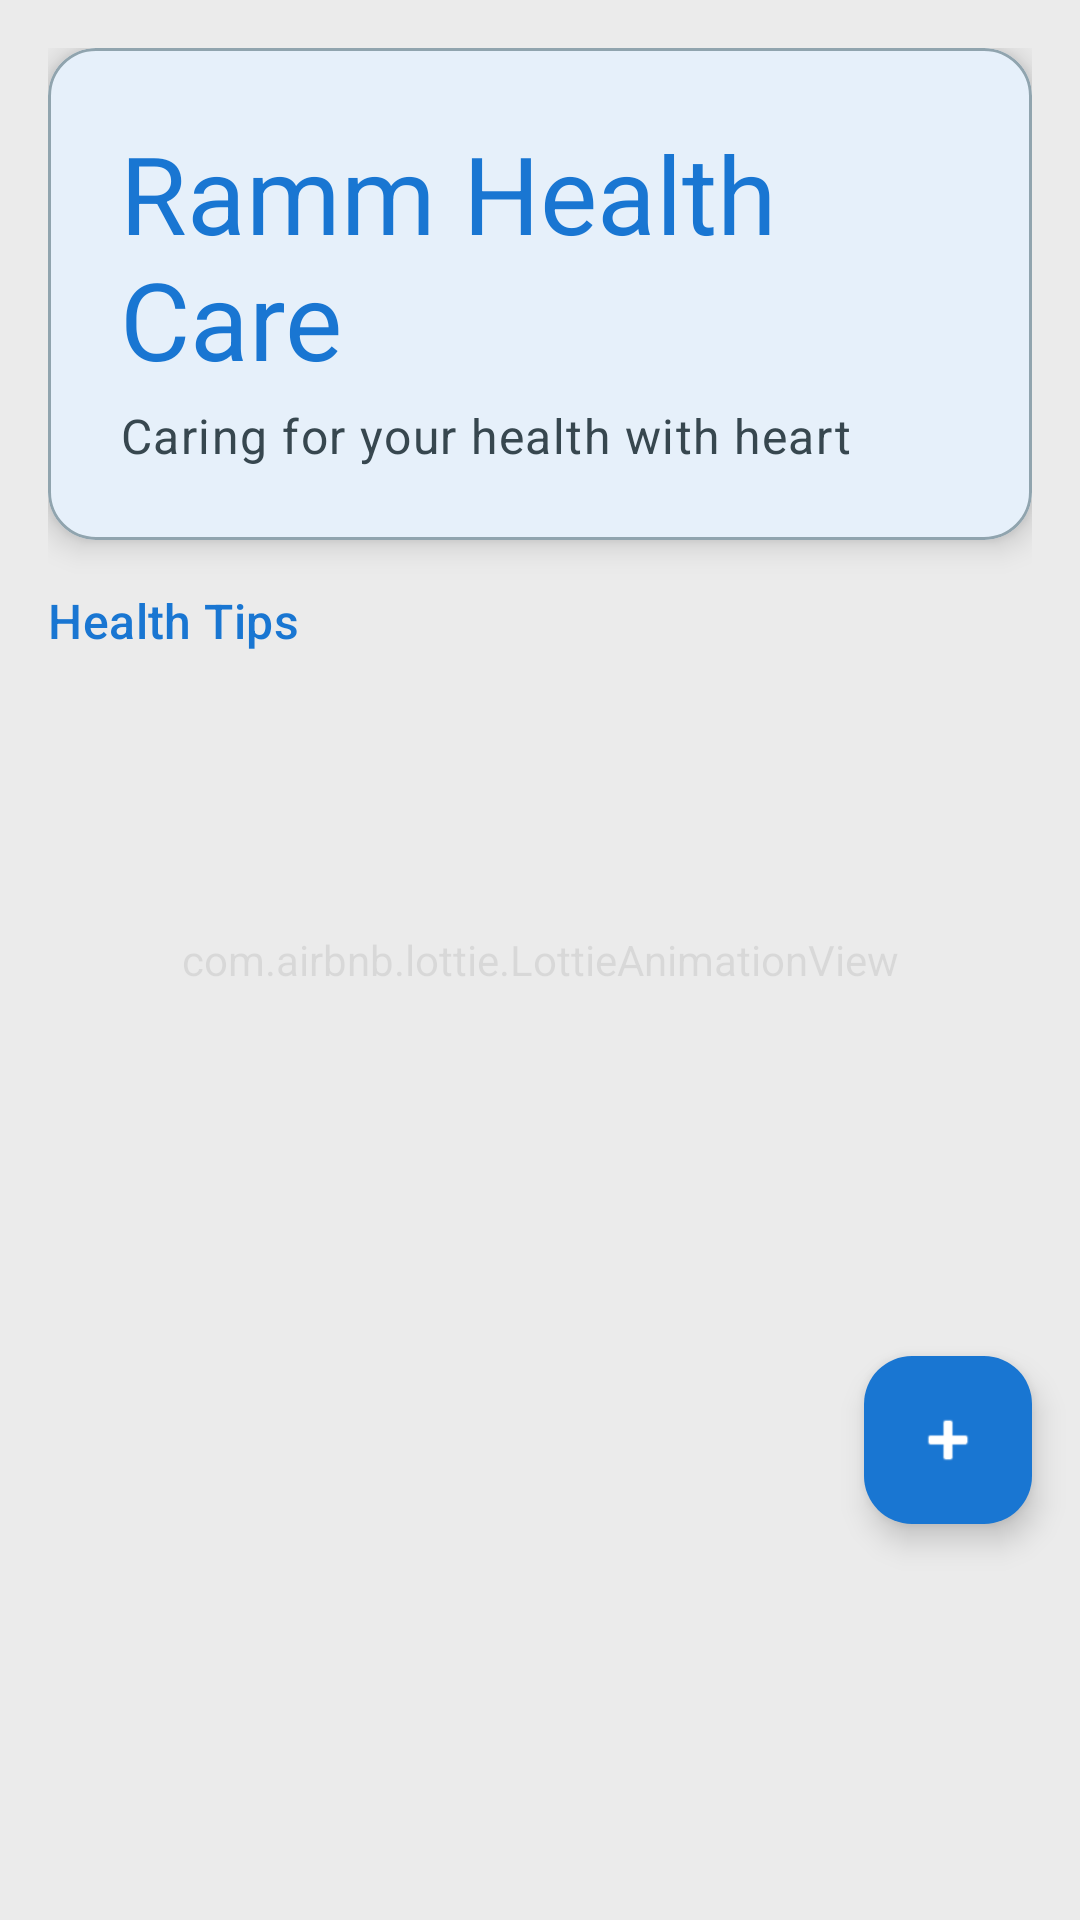

Icon bounding boxes for this 1080w x 1920h phone screenshot, format (x1, y1, x2, y2):
Add Tip: (864, 1356, 1032, 1524)
